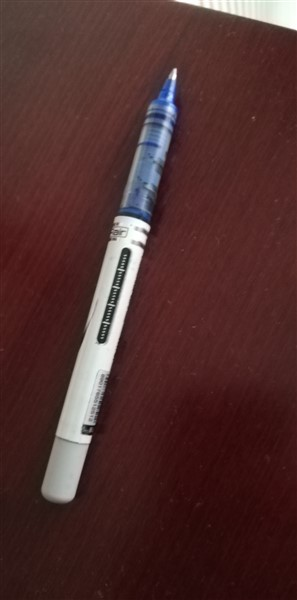pilot kalem: (35, 61, 185, 506)
